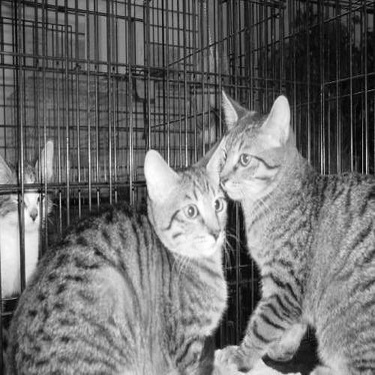cat: (14, 136, 227, 371), (219, 89, 369, 370)
